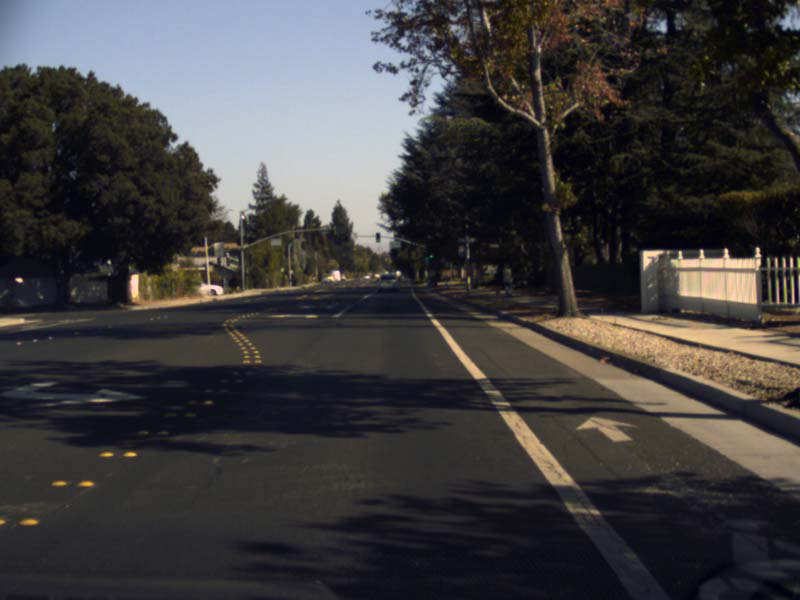Green: (375, 232, 380, 242), (429, 253, 433, 259), (424, 256, 428, 262)
